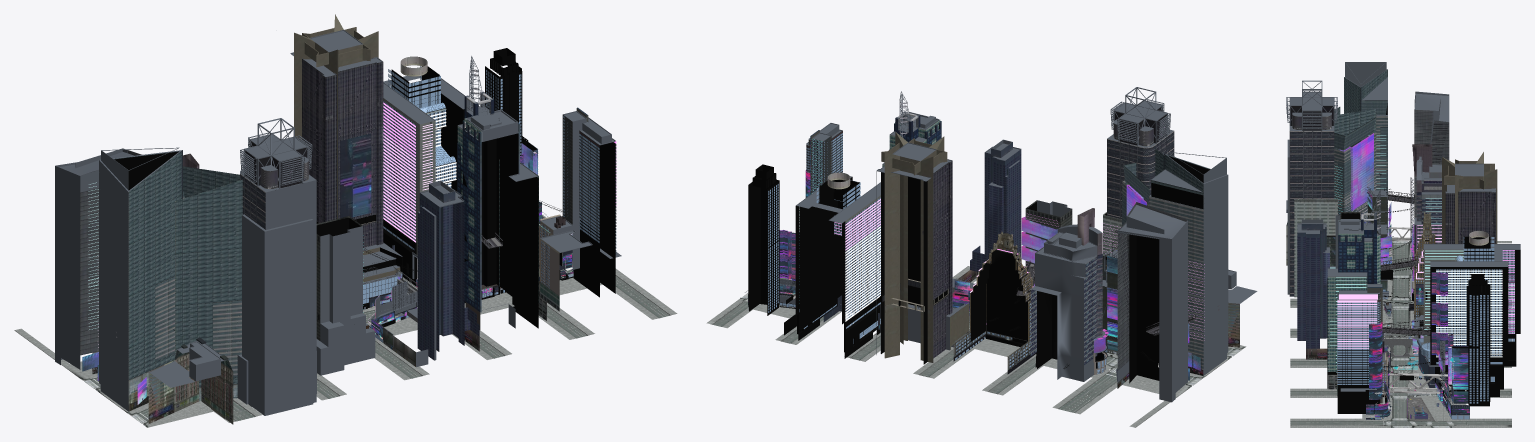
The model's file is jotkot.glb.
3 renders of one model, left to right at view 1: azimuth 30°, elevation 25°; view 2: azimuth 150°, elevation 25°; view 3: azimuth 270°, elevation 25°, orthographic. The views are drawn at different scales.
Visible parts, largest first — view 1: Object_180, Object_138, Object_26, Object_180.002, Object_41, Object_180.001, Object_113, Object_104, Object_32, Object_17, Object_38, Object_44 (+7 smaller); view 2: Object_26, Object_180, Object_41, Object_104, Object_32, Object_44, Object_113, Object_17, Object_38, Object_180.001, Object_44.002, Object_186 (+7 smaller); view 3: Object_180, Object_17, Object_32, Object_41, Object_44, Object_26, Object_180.002, Object_38, Object_180.001, Object_44.001, Object_104, Object_11.033 (+29 smaller).
Part boxes in pixels (left/top/right/bottom): Object_180: left=80, top=58, right=538, bottom=360; Object_138: left=237, top=56, right=518, bottom=415; Object_26: left=114, top=66, right=615, bottom=328; Object_180.002: left=175, top=166, right=251, bottom=406; Object_41: left=92, top=14, right=491, bottom=424; Object_180.001: left=114, top=150, right=182, bottom=404; Object_113: left=99, top=147, right=396, bottom=411; Object_104: left=55, top=30, right=382, bottom=369; Object_32: left=14, top=214, right=677, bottom=427; Object_17: left=363, top=66, right=616, bottom=342; Object_38: left=59, top=118, right=315, bottom=381; Object_44: left=355, top=48, right=536, bottom=309; Object_26: left=749, top=156, right=1209, bottom=383; Object_180: left=882, top=111, right=1187, bottom=370; Object_41: left=827, top=101, right=1239, bottom=388; Object_104: left=876, top=142, right=1187, bottom=402; Object_32: left=706, top=266, right=1245, bottom=427; Object_44: left=748, top=164, right=900, bottom=358; Object_113: left=880, top=152, right=1257, bottom=375; Object_17: left=768, top=133, right=1107, bottom=373; Object_38: left=1107, top=87, right=1236, bottom=289; Object_180.001: left=1149, top=154, right=1210, bottom=370; Object_44.002: left=834, top=222, right=880, bottom=321; Object_186: left=823, top=250, right=1200, bottom=380; Object_180: left=1289, top=92, right=1495, bottom=371; Object_17: left=1337, top=237, right=1514, bottom=419; Object_32: left=1290, top=241, right=1511, bottom=427; Object_41: left=1286, top=106, right=1514, bottom=343; Object_44: left=1418, top=250, right=1520, bottom=404; Object_26: left=1326, top=103, right=1502, bottom=413; Object_180.002: left=1334, top=107, right=1376, bottom=223; Object_38: left=1286, top=77, right=1448, bottom=267; Object_180.001: left=1344, top=69, right=1387, bottom=232; Object_44.001: left=1436, top=270, right=1502, bottom=357; Object_104: left=1387, top=91, right=1495, bottom=287; Object_11.033: left=1339, top=133, right=1373, bottom=210.
Size of the model in its own units: 29.8 by 20.82 by 15.74.
32 materials, 17 textured.
